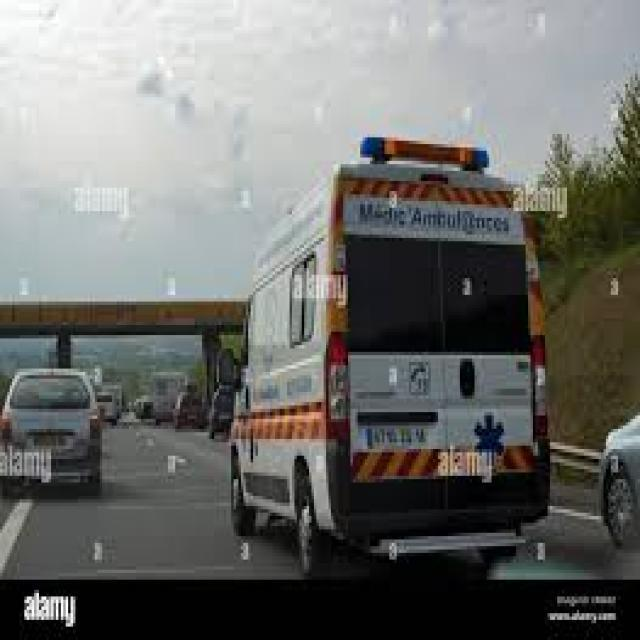ambulance: (221, 132, 561, 577)
